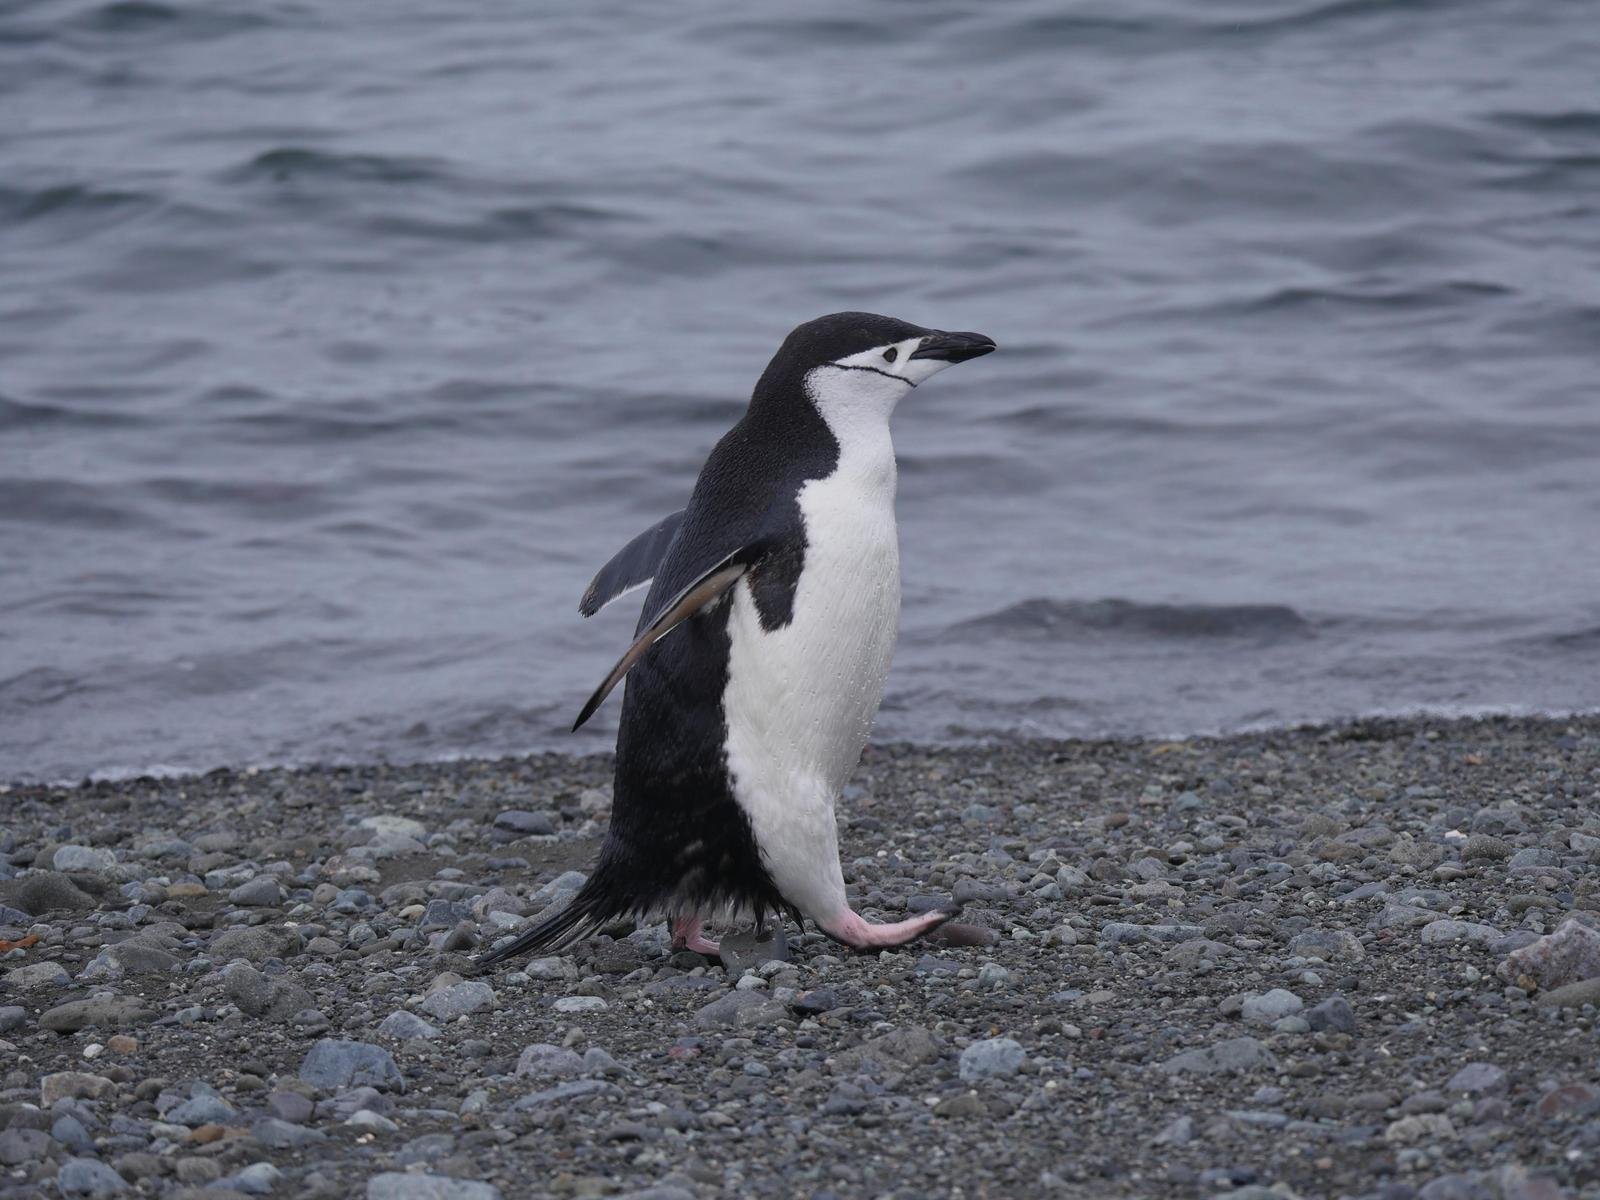chinstrap: (406, 258, 1061, 1019)
